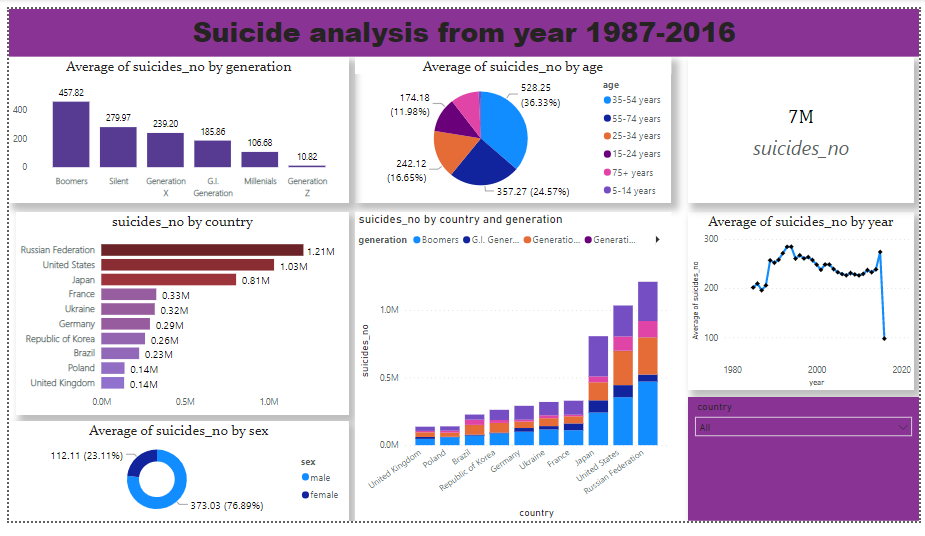

This screenshot's page, from the dashboard's own definition file:
{"tool":"powerbi","page":{"name":"Page 1","canvas":[1280,720],"ordinal":0},"visuals":[{"type":"textbox","title":"dccc","box":[0,0,1280,67.2],"z":0},{"type":"clusteredColumnChart","fields":{"Category":["suicide.generation"],"Y":["Avg(suicide.suicides_no)"]},"box":[0,67.7,478.1,205.9],"z":1000},{"type":"pieChart","fields":{"Y":["Avg(suicide.suicides_no)"],"Category":["suicide.age"]},"box":[487.3,68.1,444.8,205.4],"z":2000},{"type":"barChart","fields":{"Category":["suicide.country"],"Y":["Sum(suicide.suicides_no)"]},"box":[9.6,285.2,468.2,286.2],"z":3000},{"type":"lineChart","fields":{"Y":["Avg(suicide.suicides_no)"],"Category":["suicide.year"]},"box":[954.4,285.2,318.1,250],"z":4000},{"type":"donutChart","fields":{"Y":["Avg(suicide.suicides_no)"],"Category":["suicide.sex"]},"box":[0,579.9,477.7,140.4],"z":5000},{"type":"card","fields":{"Values":["Sum(suicide.suicides_no)"]},"box":[954.4,68.1,318.1,205.4],"z":6000},{"type":"columnChart","fields":{"Category":["suicide.country"],"Y":["Sum(suicide.suicides_no)"],"Series":["suicide.generation"]},"box":[487.3,285.2,444.8,435.2],"z":7000},{"type":"slicer","fields":{"Values":["suicide.country"]},"box":[954.7,545.8,325.4,174.2],"z":8000}]}

Visuals, with their boxes in screenshot pixels (x1, y1, x2, y2), scaled from the page's 1280x720 canvas onto the 925x536 screenshot:
"dccc" textbox: box(0, 0, 924, 50)
clusteredColumnChart - suicide.generation x Avg(suicide.suicides_no): box(0, 50, 346, 204)
pieChart - Avg(suicide.suicides_no) x suicide.age: box(352, 51, 674, 204)
barChart - suicide.country x Sum(suicide.suicides_no): box(7, 212, 345, 425)
lineChart - Avg(suicide.suicides_no) x suicide.year: box(690, 212, 920, 398)
donutChart - Avg(suicide.suicides_no) x suicide.sex: box(0, 432, 345, 535)
card - Sum(suicide.suicides_no): box(690, 51, 920, 204)
columnChart - suicide.country x Sum(suicide.suicides_no): box(352, 212, 674, 535)
slicer - suicide.country: box(690, 406, 924, 535)
